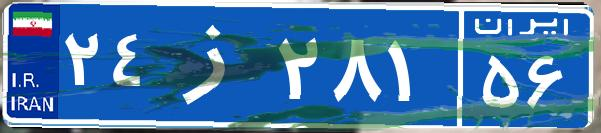1: (385, 28, 445, 110)
2: (273, 28, 330, 110), (57, 26, 110, 107)
4: (110, 28, 158, 105)
5: (475, 38, 525, 113)
6: (525, 38, 570, 115)
8: (330, 28, 385, 110)
ز: (158, 15, 273, 115)
